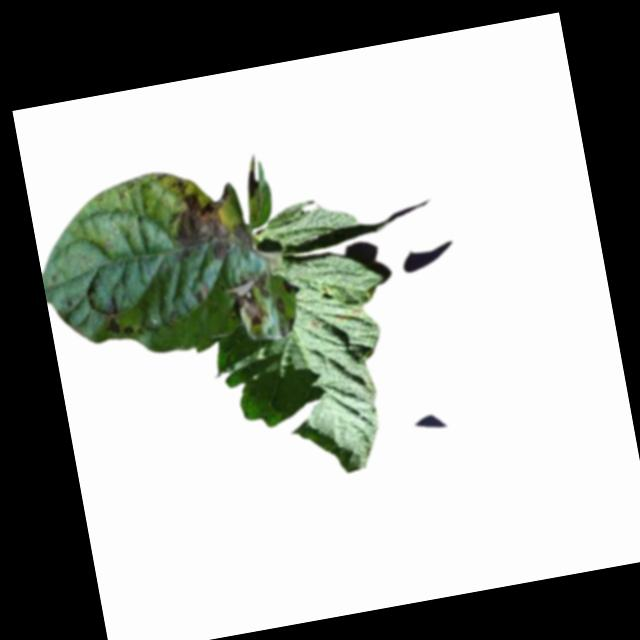Early_blight: (165, 171, 252, 269), (220, 269, 275, 332), (97, 293, 124, 336), (334, 307, 363, 327), (271, 295, 290, 317), (279, 277, 301, 296)
